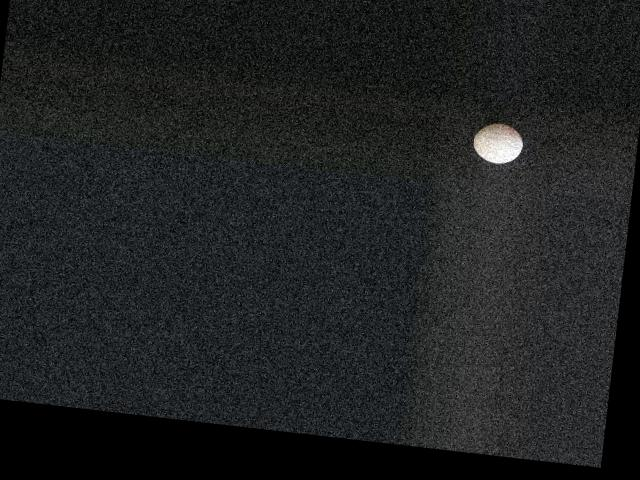egg: (470, 120, 523, 165)
